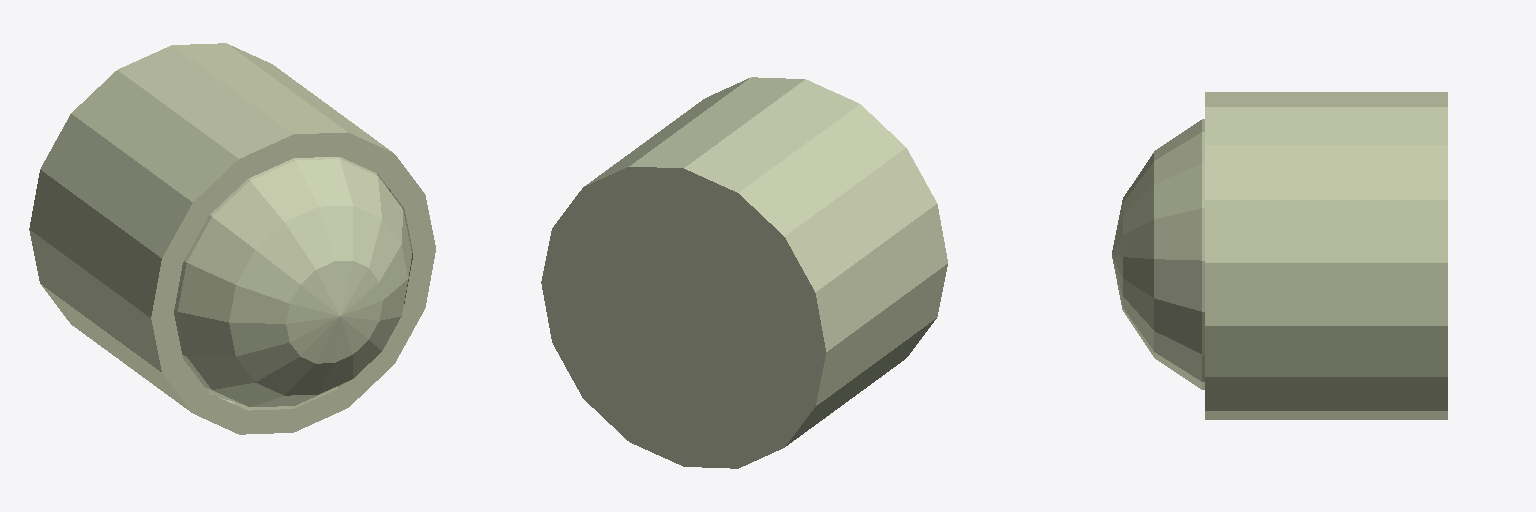
Rendered from Symbolic.obj.
3 renders of one model, left to right at view 1: azimuth 30°, elevation 25°; view 2: azimuth 150°, elevation 25°; view 3: azimuth 270°, elevation 25°, orthographic.
Visible parts, largest first — view 1: Cylinder1, sphere2; view 2: Cylinder1; view 3: Cylinder1, sphere2.
Boxes of the visible parts, x1,y1,x2,y2 form: Cylinder1: [29, 43, 435, 434]; sphere2: [174, 157, 411, 406]; Cylinder1: [541, 77, 947, 468]; Cylinder1: [1205, 92, 1447, 419]; sphere2: [1112, 119, 1204, 389].
Size of the model in its own units: 0.068 by 0.068 by 0.0696.